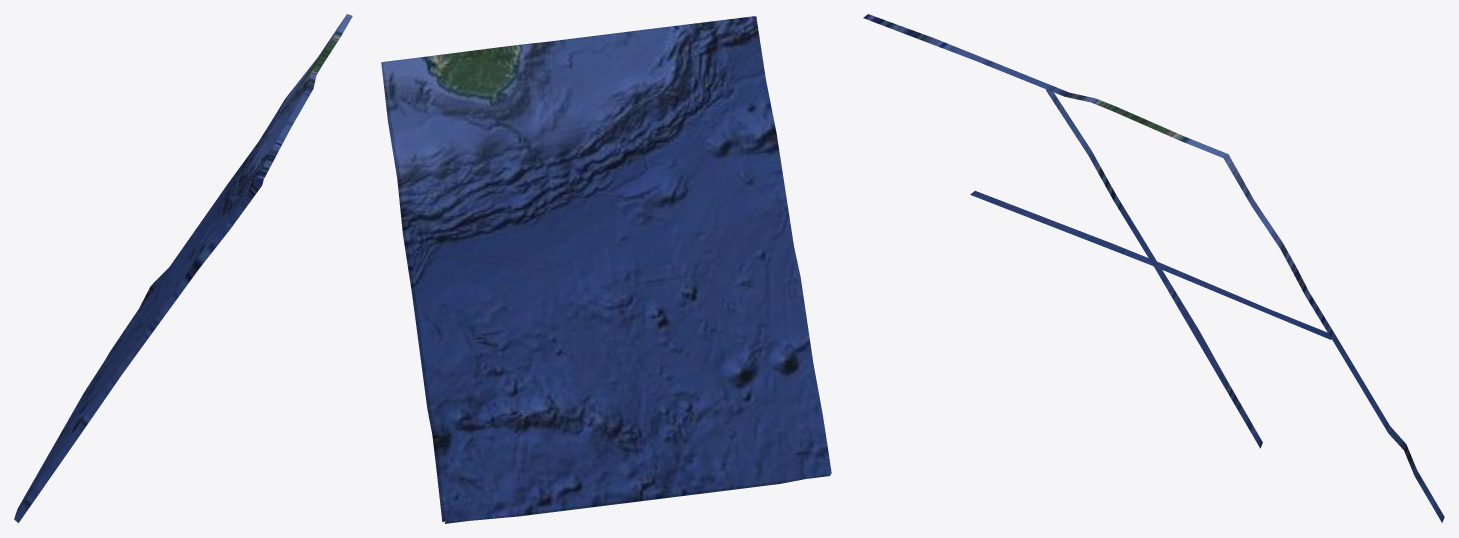
3 views of the same model, side by side, from view 1: azimuth 30°, elevation 25°; view 2: azimuth 150°, elevation 25°; view 3: azimuth 270°, elevation 25° (orthographic). The views are drawn at different scales.
Size of the model in its own units: 304238 by 270729 by 310656.
1 material, 1 textured.
